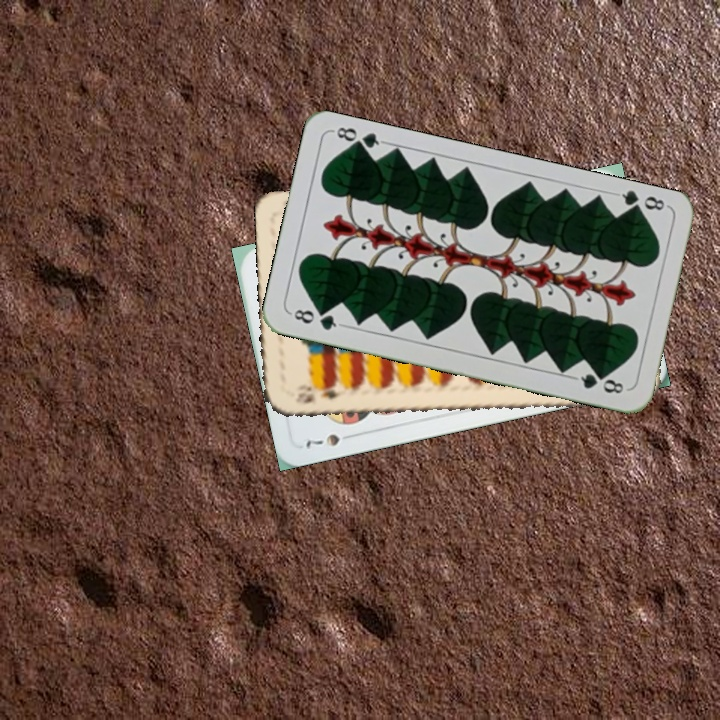E10: (292, 382, 346, 406)
G8: (611, 187, 670, 218), (287, 305, 345, 333)
S7: (301, 430, 358, 451)
